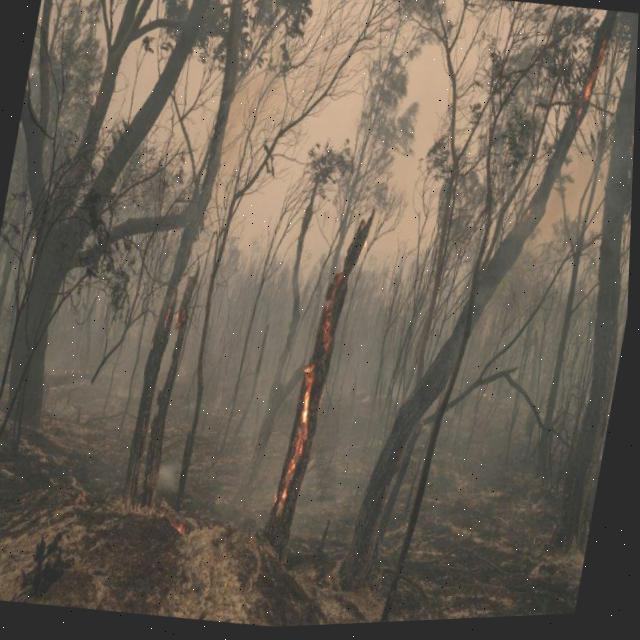fire: (287, 284, 342, 486)
smoke: (0, 0, 639, 538)
